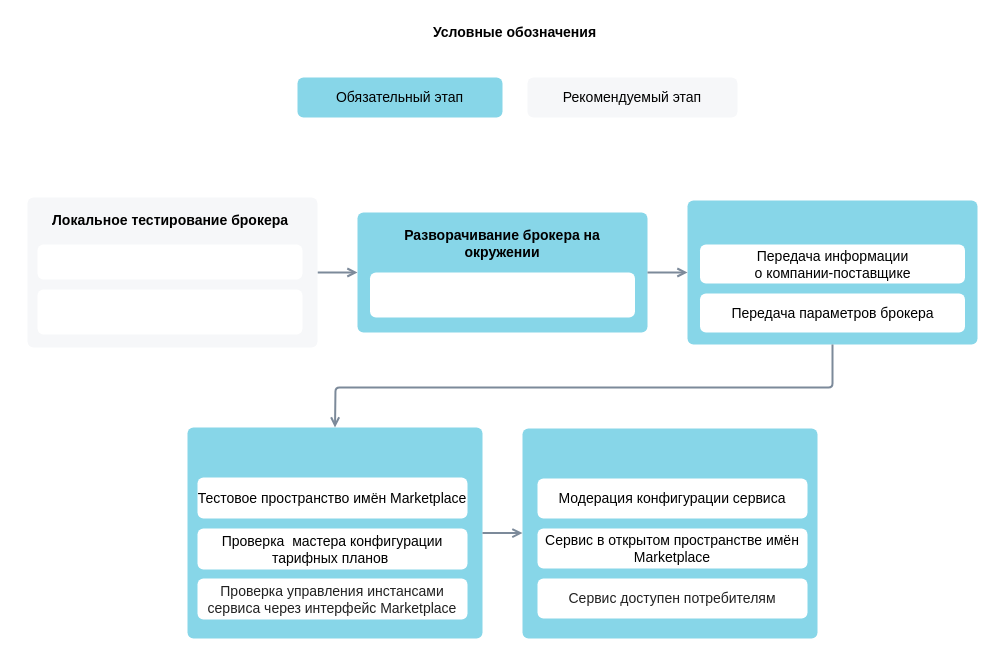
Some shapes in this 1004 by 664 pixel diagram are drawn without their labels. Each missing label, with the box of its shape:
Локальный запуск брокера: (37, 244, 302, 279)
Обеспечение постоянного доступа Marketplace к брокеру: (370, 272, 634, 317)
Проверка управления инстансами сервиса через API брокера: (37, 289, 302, 334)
Публикация сервиса: (522, 428, 817, 638)
Регистрация брокера в Marketplace: (687, 200, 977, 344)
Тестирование сервиса в Marketplace: (187, 427, 482, 638)
